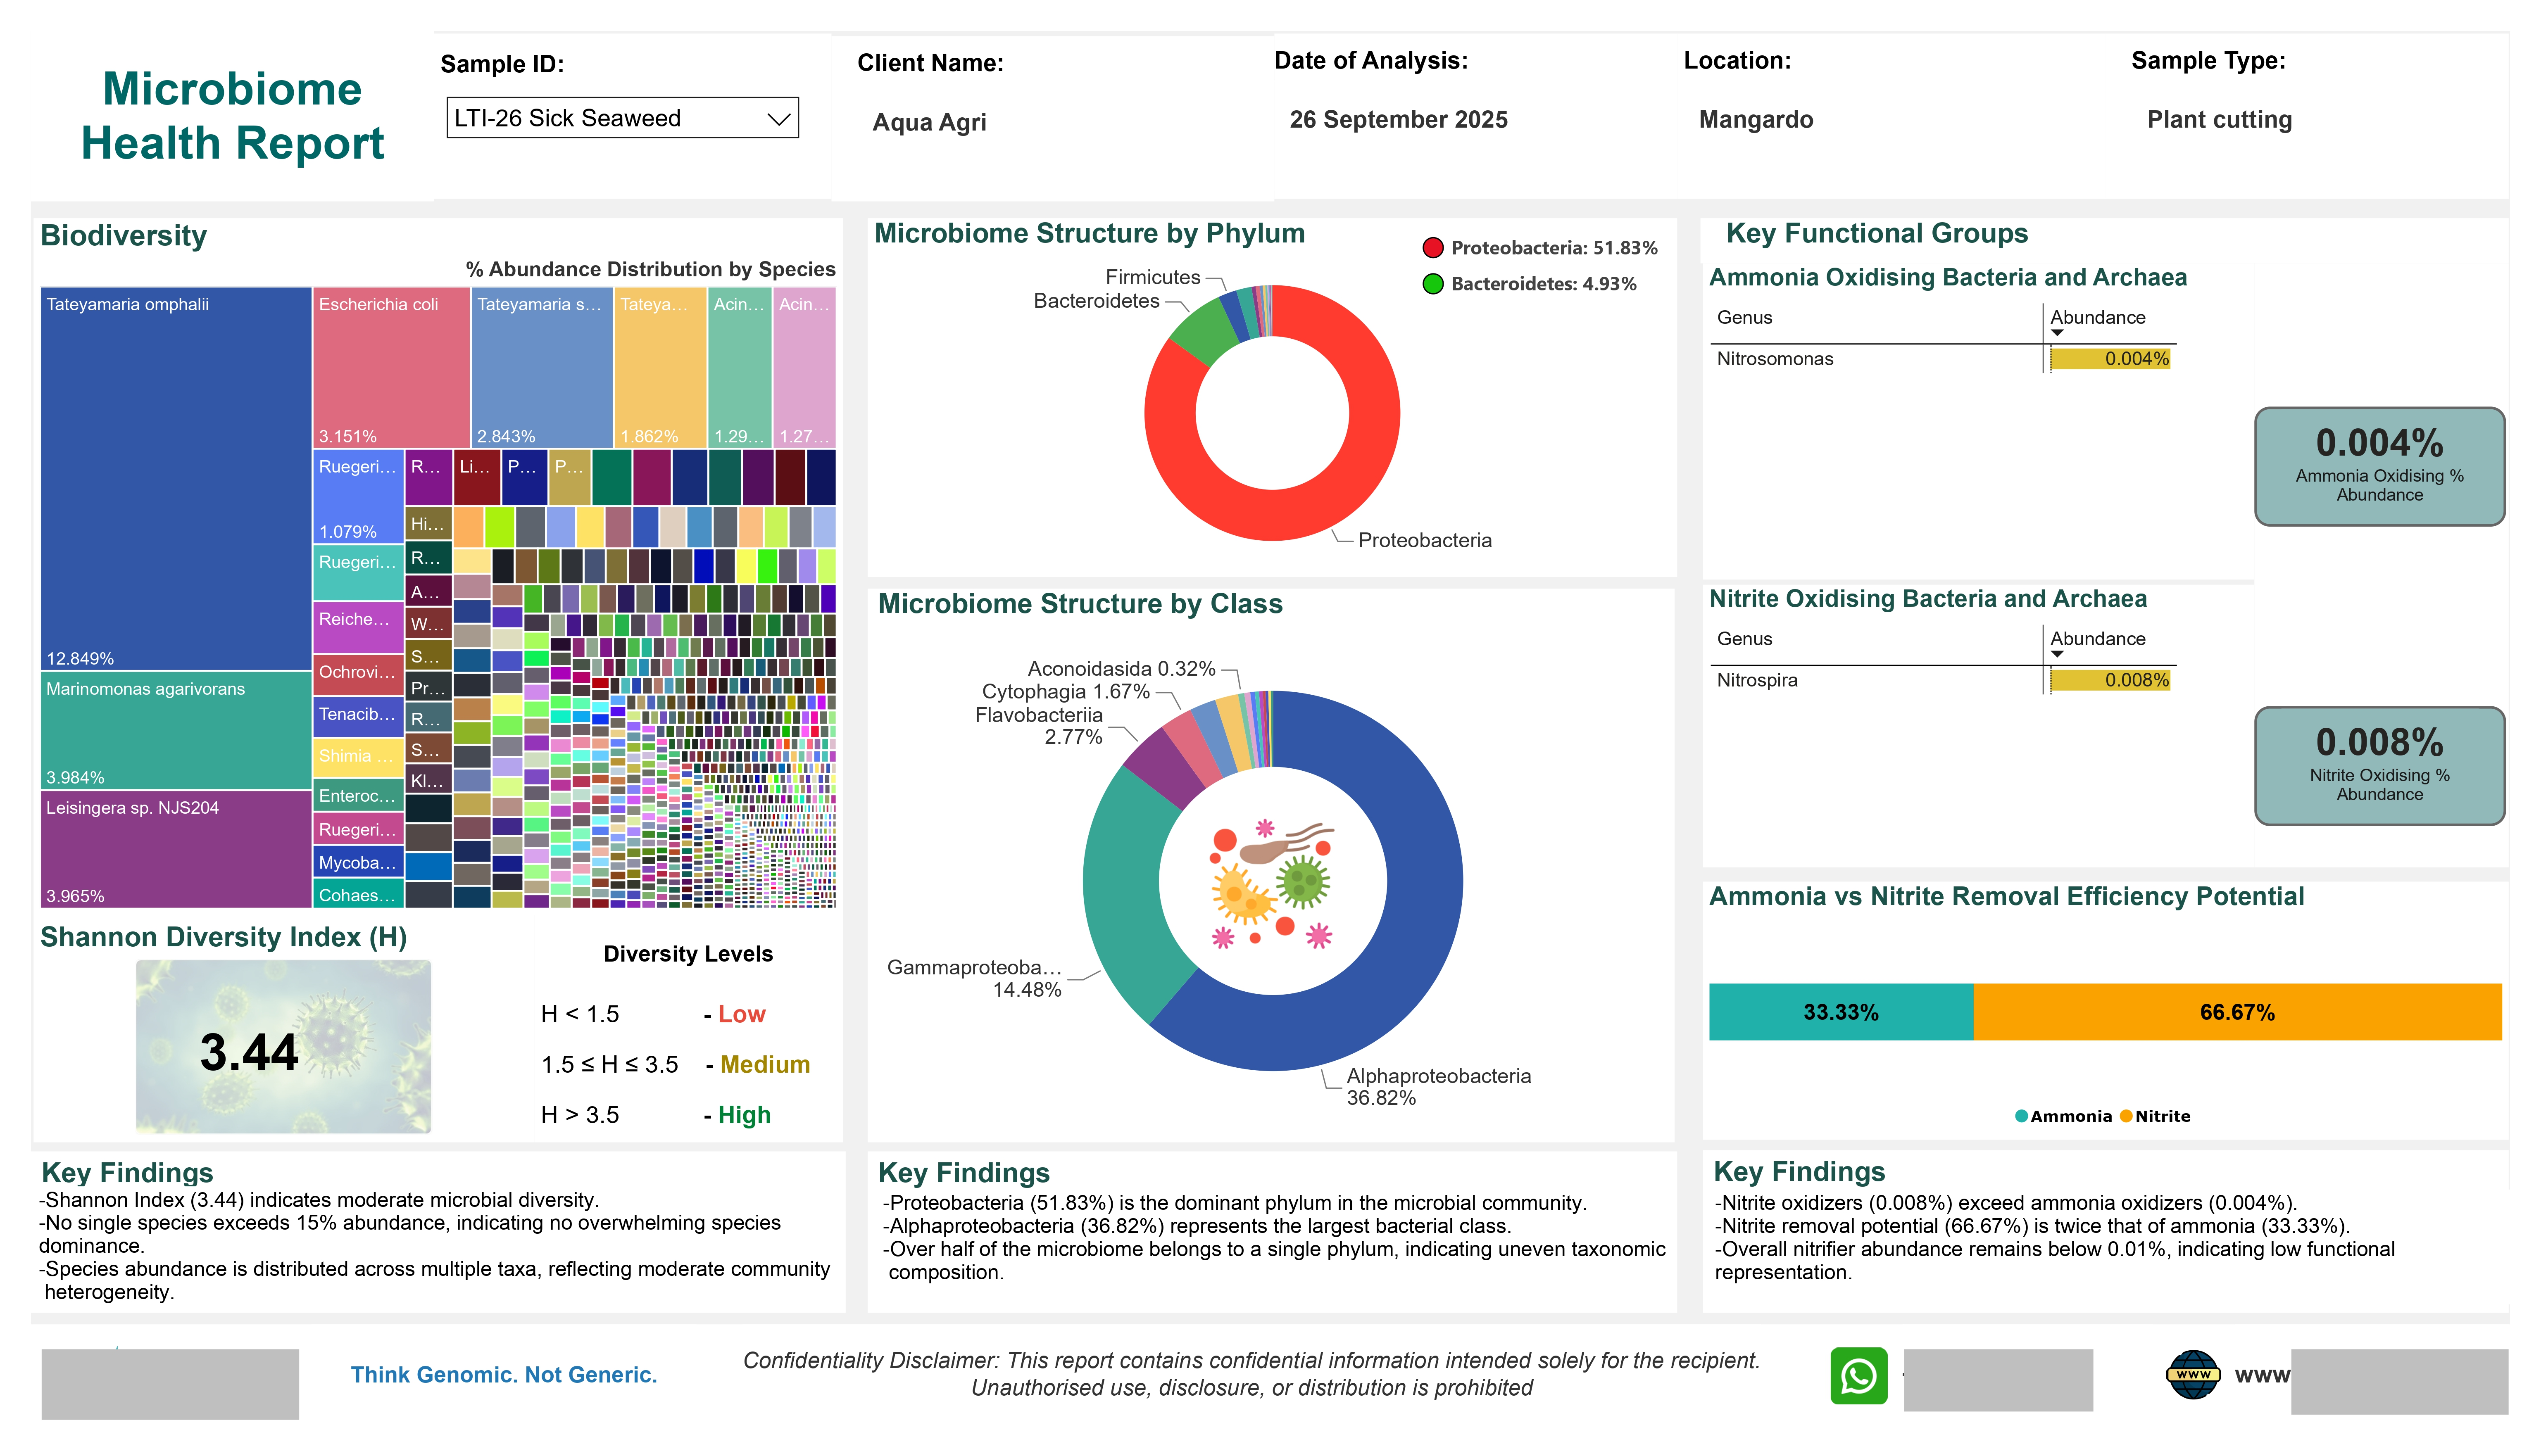

The page's visual inventory and layout, read from the dashboard file:
{"tool":"powerbi","page":{"name":"Dash1","canvas":[1920,1080],"ordinal":0},"visuals":[{"type":"donutChart","title":"Microbiome Structure by Phylum","fields":{"Y":["Measures_.Abundance"],"Category":["Microbiome.Phylum"]},"box":[648.4,145.3,626.7,277.6],"z":0},{"type":"shape","box":[1721.9,180,197.3,468.4],"z":1000},{"type":"shape","box":[0,1001.9,1919.3,78.1],"z":2000},{"type":"shape","box":[1292.5,145.3,626.7,34.7],"z":3000},{"type":"slicer","title":"Sample ID:","fields":{"Values":["Microbiome.Sample No"]},"box":[312.3,2.2,308,128],"z":4000},{"type":"cardVisual","title":"Date of Analysis:","fields":{"Data":["Min(Microbiome.Date Of Analysis)"]},"box":[962.9,2.2,312.3,128],"z":5000},{"type":"cardVisual","title":"Client Name:","fields":{"Data":["Min(Microbiome.Client Name)"]},"box":[620.2,4.3,342.7,128],"z":6000},{"type":"donutChart","title":"Microbiome Structure by Class","fields":{"Category":["Microbiome.Class"],"Y":["Measures_.Abundance"]},"box":[648.4,431.6,624.6,429.4],"z":7000},{"type":"cardVisual","title":"Location:","fields":{"Data":["Min(Microbiome.Location)"]},"box":[1275.2,2.2,331.8,128],"z":8000},{"type":"cardVisual","title":"Sample Type:","fields":{"Data":["Min(Microbiome.Sample Type)"]},"box":[1607,2.2,312.3,128],"z":9000},{"type":"tableEx","title":"Ammonia Oxidising Bacteria and Archaea","fields":{"Values":["Microbiome.Genus","Measures_.Abundance%"]},"box":[1294.7,180,427.2,245.1],"z":10000},{"type":"shape","box":[0,0,312.3,132.3],"z":11000},{"type":"tableEx","title":"Nitrite Oxidising Bacteria and Archaea","fields":{"Values":["Microbiome.Genus","Measures_.Abundance%"]},"box":[1294.7,429.4,427.2,219],"z":12000},{"type":"hundredPercentStackedBarChart","title":"Ammonia vs Nitrite Removal  Efficiency Potential","fields":{"Y":["Measures_.Ammonia_Oxidising","Measures_.Nitrite_Oxidising"]},"box":[1294.7,659.3,624.6,199.5],"z":13000},{"type":"treemap","title":"Biodiversity","fields":{"Values":["Measures_.Abundance%"],"Group":["Microbiome.Species"]},"box":[2.2,145.3,626.7,540],"z":14000},{"type":"cardVisual","title":"Shannon Diversity Index (H)","fields":{"Data":["Measures_.Shannon_Index"]},"box":[2.2,685.3,388.2,175.7],"z":15000},{"type":"textbox","title":"Key Findings","box":[0,868,631,125],"z":16000},{"type":"textbox","title":"Key Findings","box":[648.4,868,626.7,125],"z":17000},{"type":"textbox","title":"Key Findings","box":[1294.7,867.5,624.6,125.8],"z":18000},{"type":"textbox","title":"Diversity Levels","box":[390.4,685.3,238.6,175.7],"z":19000},{"type":"image","box":[43.4,999.8,156.1,80.2],"z":20000},{"type":"shape","box":[216.9,1001.9,299.3,78.1],"z":21000},{"type":"shape","box":[1707.5,1001.9,212.5,78.1],"z":22000},{"type":"shape","box":[1448.7,1001.9,195.2,78.1],"z":23000},{"type":"image","box":[1643.9,1014.9,60.7,52],"z":24000},{"type":"image","box":[1388,1014.9,56.4,54.2],"z":25000},{"type":"shape","box":[550.8,1001.9,789.4,78.1],"z":26000},{"type":"cardVisual","fields":{"Data":["Measures_.Nitrite Oxidising % Abundance"]},"box":[1721.9,522.7,195.2,93],"z":27000},{"type":"cardVisual","fields":{"Data":["Measures_.Ammonia_Oxidising"]},"box":[1721.9,290.6,195.2,93.3],"z":28000},{"type":"image","box":[904.3,603,115,115],"z":29000},{"type":"multiRowCard","fields":{"Values":["Measures_.Proteobacteria","Measures_.Bacteroidetes"]},"box":[1071.3,151.8,201.7,63],"z":30000}]}

Visuals, with their boxes on the page's 1920x1080 design canvas (x1, y1, x2, y2). These are canvas units, not pixel positions in the 2541x1456 screenshot, which may show the page scaled, cropped or inside an application window:
"Microbiome Structure by Phylum" donutChart: (left=648, top=145, right=1275, bottom=423)
shape: (left=1722, top=180, right=1919, bottom=648)
shape: (left=0, top=1002, right=1919, bottom=1080)
shape: (left=1292, top=145, right=1919, bottom=180)
"Sample ID:" slicer: (left=312, top=2, right=620, bottom=130)
"Date of Analysis:" cardVisual: (left=963, top=2, right=1275, bottom=130)
"Client Name:" cardVisual: (left=620, top=4, right=963, bottom=132)
"Microbiome Structure by Class" donutChart: (left=648, top=432, right=1273, bottom=861)
"Location:" cardVisual: (left=1275, top=2, right=1607, bottom=130)
"Sample Type:" cardVisual: (left=1607, top=2, right=1919, bottom=130)
"Ammonia Oxidising Bacteria and Archaea" tableEx: (left=1295, top=180, right=1722, bottom=425)
shape: (left=0, top=0, right=312, bottom=132)
"Nitrite Oxidising Bacteria and Archaea" tableEx: (left=1295, top=429, right=1722, bottom=648)
"Ammonia vs Nitrite Removal  Efficiency Potential" hundredPercentStackedBarChart: (left=1295, top=659, right=1919, bottom=859)
"Biodiversity" treemap: (left=2, top=145, right=629, bottom=685)
"Shannon Diversity Index (H)" cardVisual: (left=2, top=685, right=390, bottom=861)
"Key Findings" textbox: (left=0, top=868, right=631, bottom=993)
"Key Findings" textbox: (left=648, top=868, right=1275, bottom=993)
"Key Findings" textbox: (left=1295, top=868, right=1919, bottom=993)
"Diversity Levels" textbox: (left=390, top=685, right=629, bottom=861)
image: (left=43, top=1000, right=200, bottom=1080)
shape: (left=217, top=1002, right=516, bottom=1080)
shape: (left=1708, top=1002, right=1920, bottom=1080)
shape: (left=1449, top=1002, right=1644, bottom=1080)
image: (left=1644, top=1015, right=1705, bottom=1067)
image: (left=1388, top=1015, right=1444, bottom=1069)
shape: (left=551, top=1002, right=1340, bottom=1080)
cardVisual - Measures_.Nitrite Oxidising % Abundance: (left=1722, top=523, right=1917, bottom=616)
cardVisual - Measures_.Ammonia_Oxidising: (left=1722, top=291, right=1917, bottom=384)
image: (left=904, top=603, right=1019, bottom=718)
multiRowCard - Measures_.Proteobacteria x Measures_.Bacteroidetes: (left=1071, top=152, right=1273, bottom=215)
